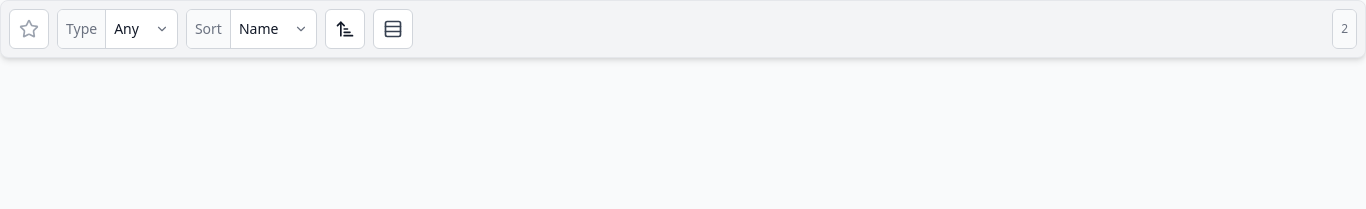
CardArtFilterBar › Upload Library Mode › extracts and displays non-standard custom types
Check: the text "Type" is shown, box x1=58 y1=10 x2=105 y2=48
Open dropdown
What coordinates should you click on to do the following:
click the button "Type Any"
I would click on:
 (117, 29)
Its box is x1=57 y1=9 x2=178 y2=49.
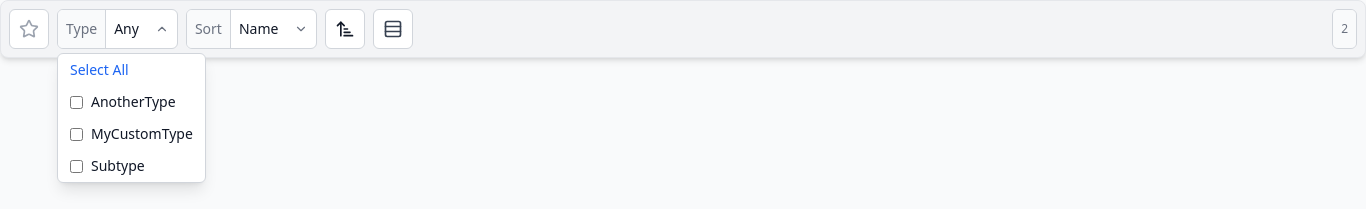
Check: the text "MyCustomType" is shown, box x1=91 y1=124 x2=193 y2=144
